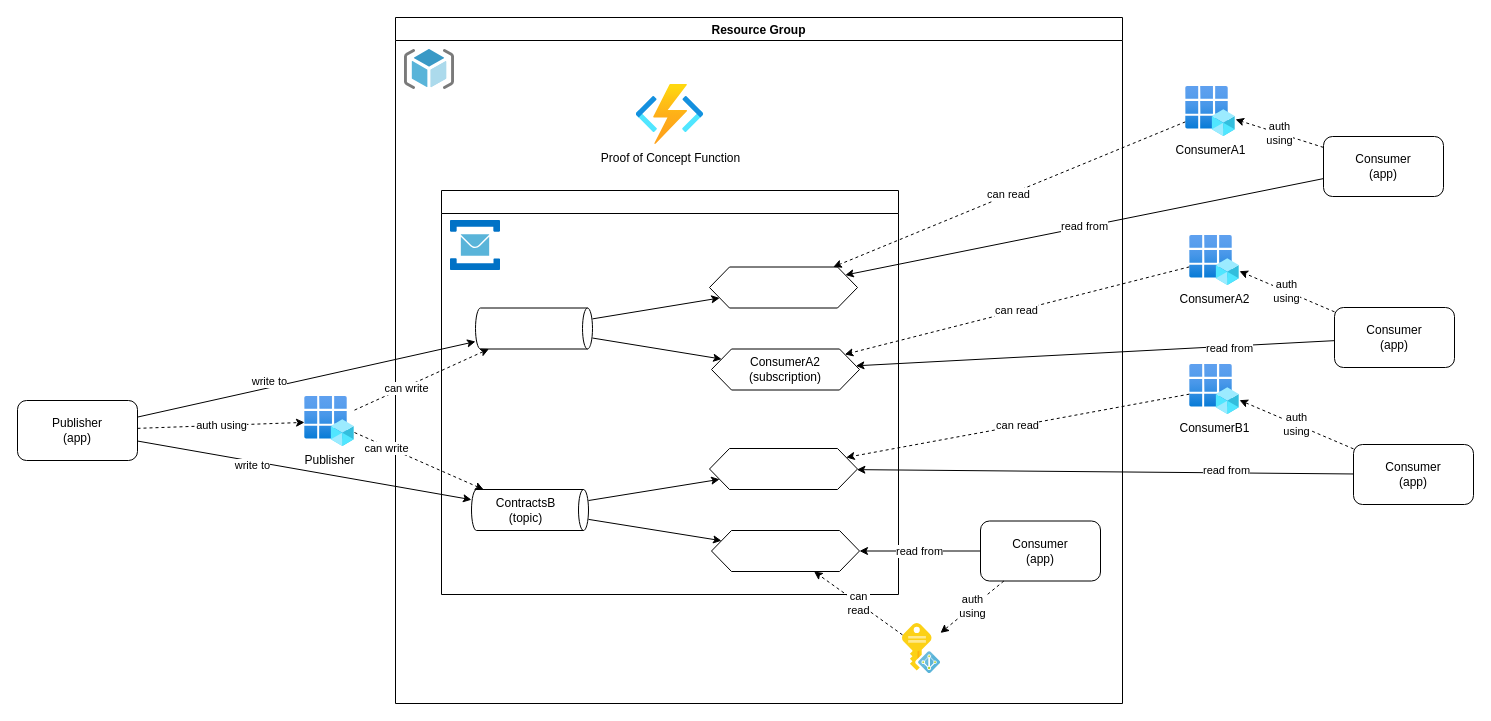
Some shapes in this 1491 by 721 pixel diagram are drawn without their labels. Each missing label, with the box of its shape:
ConsumerA1 (subscription): (708, 266, 858, 308)
ConsumerB1 (subscription): (708, 448, 858, 490)
ConsumerB2: (902, 623, 940, 673)
ConsumerB2 (subscription): (710, 530, 860, 572)
Contracts Service Bus Namespace: (440, 190, 898, 594)
ContractsA (topic): (474, 307, 592, 349)
